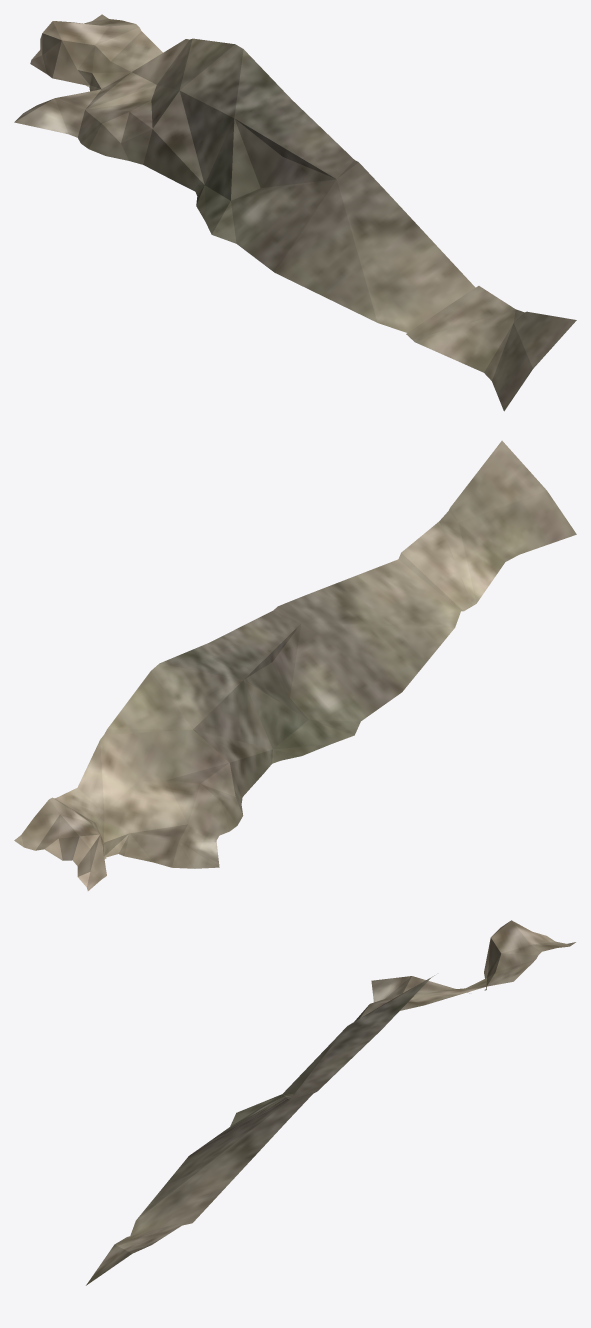
3 renders of one model, top to bottom at view 1: azimuth 30°, elevation 25°; view 2: azimuth 150°, elevation 25°; view 3: azimuth 330°, elevation 25°, orthographic. The views are drawn at different scales.
Size of the model in its own units: 1.03 by 0.6911 by 5.9.
Materials: 1 (1 with a texture image).
